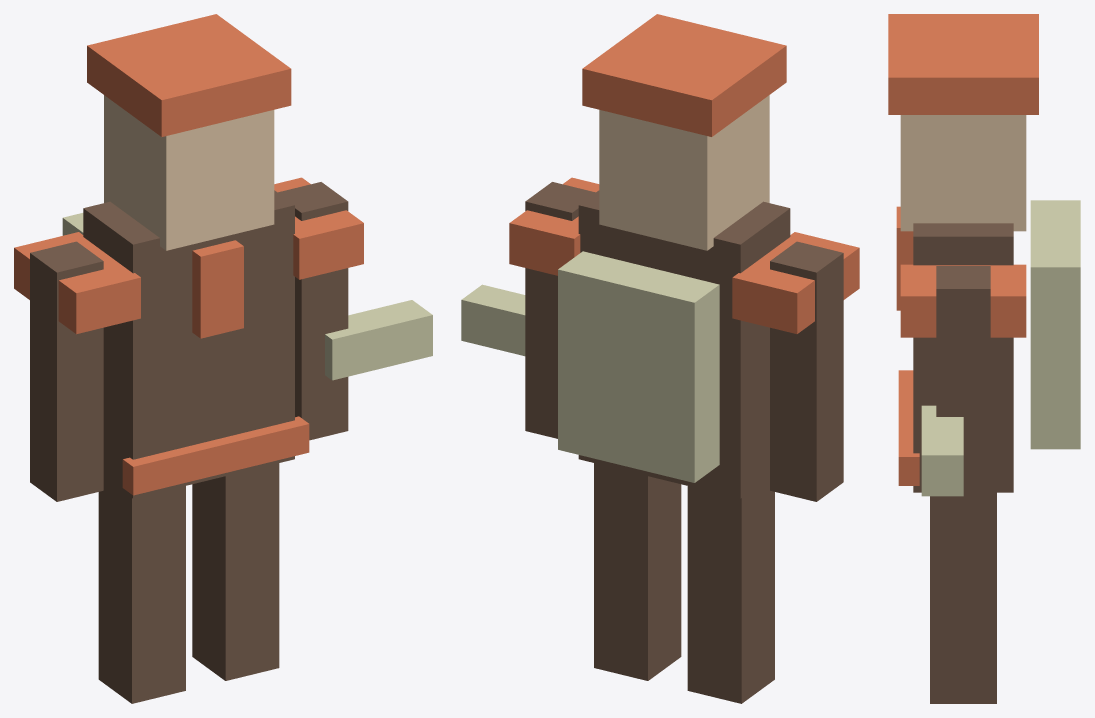
Rendered from 17_asha_ashvein_tactician_near_archive.glb.
The picture shows the model from 3 angles, left to right: view 1: azimuth 30°, elevation 25°; view 2: azimuth 150°, elevation 25°; view 3: azimuth 270°, elevation 25°; orthographic projection.
Parts seen in each view (by area): view 1: Asha Ashvein, Tactician near Archive; view 2: Asha Ashvein, Tactician near Archive; view 3: Asha Ashvein, Tactician near Archive.
Part boxes in pixels (left/top/right/bottom): Asha Ashvein, Tactician near Archive: left=14, top=14, right=432, bottom=703; Asha Ashvein, Tactician near Archive: left=461, top=14, right=859, bottom=703; Asha Ashvein, Tactician near Archive: left=888, top=14, right=1080, bottom=703.
Bounding box in the file's own units: 1 × 1.6 × 0.4492.
